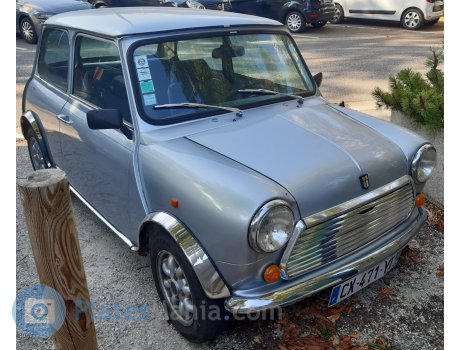licence plate: (327, 248, 404, 308)
